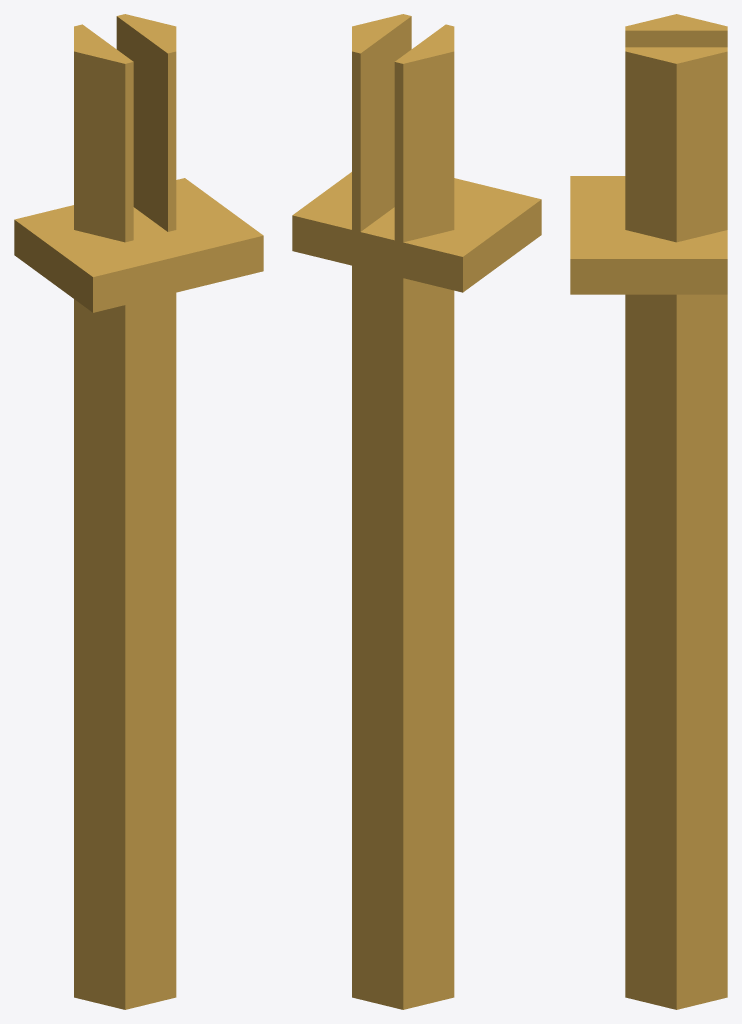
File: tinker.obj
The picture shows the model from 3 angles, left to right: view 1: azimuth 30°, elevation 25°; view 2: azimuth 150°, elevation 25°; view 3: azimuth 270°, elevation 25°; orthographic projection.
Visible parts, largest first — view 1: obj_0; view 2: obj_0; view 3: obj_0.
Boxes of the visible parts, bbox=[...] form: obj_0: bbox=[14, 14, 263, 1009]; obj_0: bbox=[292, 14, 541, 1009]; obj_0: bbox=[570, 14, 727, 1009].
Size of the model in its own units: 10 by 53 by 8.
